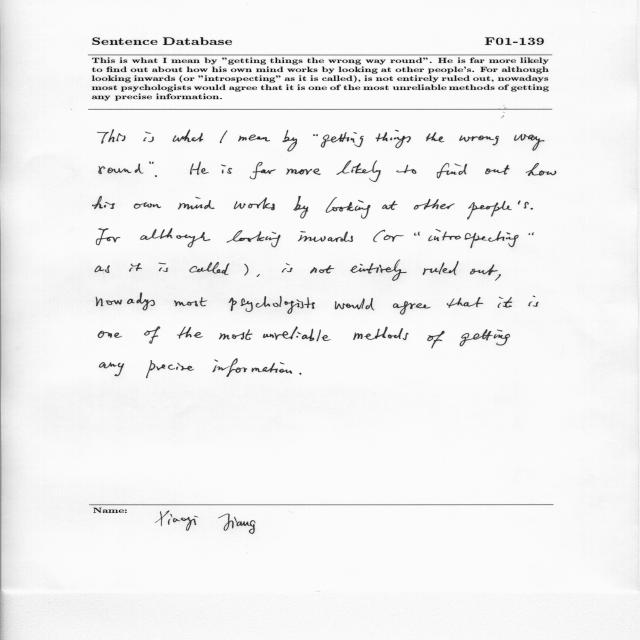word: (428, 229, 519, 248), (228, 296, 315, 314), (213, 358, 293, 377), (140, 228, 210, 248), (350, 260, 407, 281), (467, 201, 529, 220), (96, 293, 155, 310), (326, 197, 370, 219), (263, 327, 331, 341), (227, 231, 280, 248), (146, 360, 194, 378), (460, 330, 510, 347), (353, 327, 409, 340), (321, 132, 364, 148), (376, 130, 411, 148), (351, 161, 381, 182), (298, 231, 353, 242), (234, 198, 275, 211), (393, 301, 431, 315), (190, 262, 230, 275), (514, 134, 544, 151), (423, 261, 459, 275), (335, 298, 374, 310), (414, 199, 455, 210), (99, 164, 144, 174), (437, 163, 467, 178), (178, 197, 215, 209), (250, 162, 276, 179), (96, 229, 121, 246), (98, 129, 126, 144), (459, 136, 499, 146), (447, 297, 483, 308), (526, 163, 556, 176), (219, 329, 253, 340), (99, 362, 125, 376), (173, 130, 203, 142), (174, 297, 208, 307), (294, 196, 308, 219), (177, 327, 203, 339), (283, 130, 297, 152), (470, 265, 498, 276), (427, 331, 445, 348), (92, 196, 115, 209), (144, 327, 160, 344), (485, 165, 510, 175), (190, 162, 209, 175), (286, 168, 321, 175), (238, 135, 270, 142), (310, 265, 334, 274), (337, 161, 352, 175), (134, 202, 161, 209), (426, 132, 444, 142), (397, 165, 417, 174), (98, 331, 122, 338), (498, 297, 512, 308), (373, 230, 385, 242), (384, 235, 404, 242), (382, 201, 397, 210), (528, 296, 539, 307), (95, 265, 110, 273), (129, 263, 142, 272), (143, 132, 154, 142), (221, 164, 232, 174), (159, 262, 169, 272), (282, 264, 293, 273), (220, 131, 227, 143), (244, 264, 249, 276), (495, 274, 501, 281), (414, 232, 420, 236), (149, 161, 154, 164), (529, 233, 534, 236), (313, 134, 318, 136), (257, 274, 260, 277), (299, 373, 302, 375), (155, 175, 157, 177), (531, 208, 533, 210)
